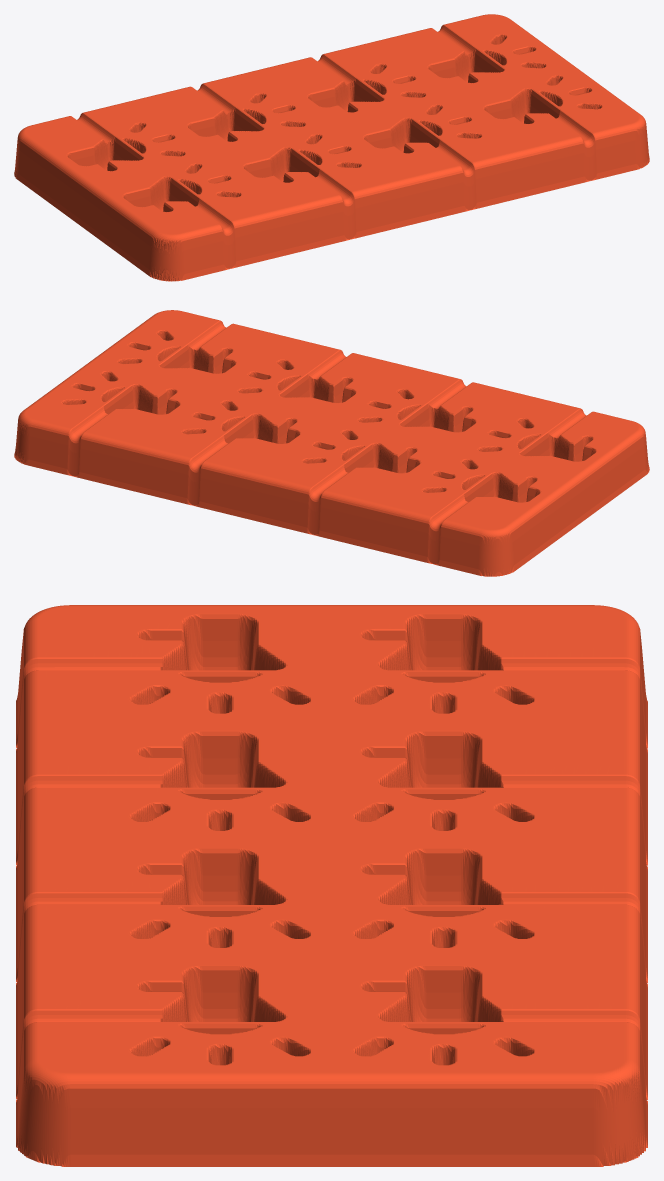
Rendered from mold.glb.
3 views of the same model, one above another, from view 1: azimuth 30°, elevation 25°; view 2: azimuth 150°, elevation 25°; view 3: azimuth 270°, elevation 25° (orthographic). The views are drawn at different scales.
Visible parts, largest first — view 1: geometry_0; view 2: geometry_0; view 3: geometry_0.
Boxes of the visible parts, x1,y1,x2,y2 form: geometry_0: (14,14,649,281); geometry_0: (14,310,649,576); geometry_0: (16,605,647,1166).
Bounding box in the file's own units: 0.1907 × 0.0155 × 0.105.
